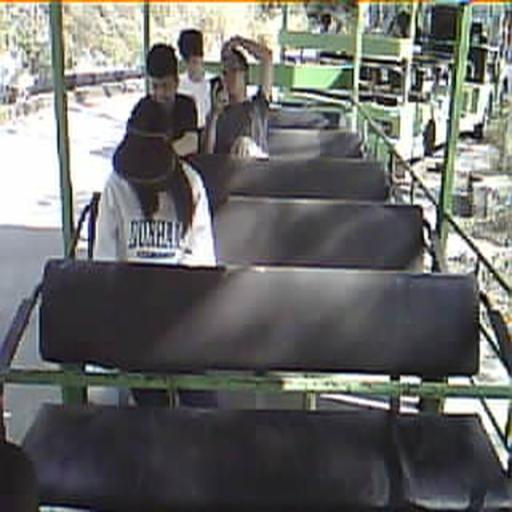persona: (98, 96, 216, 410), (206, 34, 274, 159), (126, 43, 200, 150), (178, 27, 222, 128)
